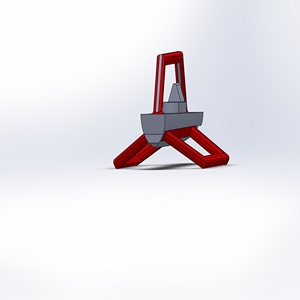submarine: (103, 29, 245, 190)
